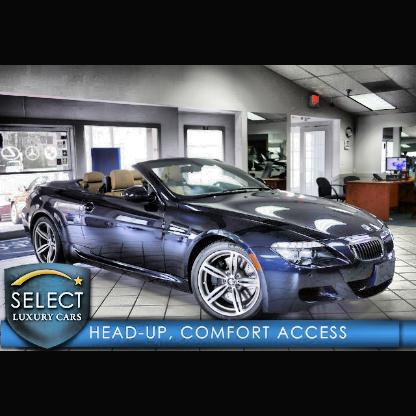BMW M6 Convertible 2010: (22, 158, 398, 323)
